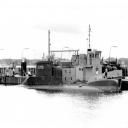submarine: (14, 61, 106, 94)
